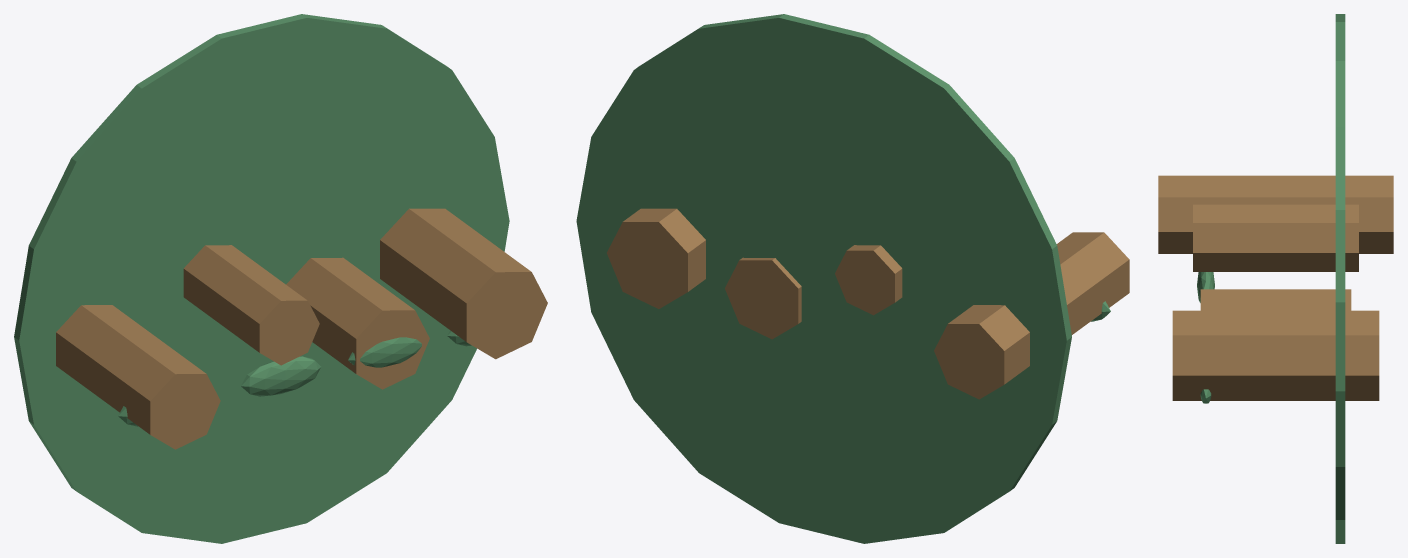
The model's file is 02_local_prop_cluster.glb.
3 views of the same model, side by side, from view 1: azimuth 30°, elevation 25°; view 2: azimuth 150°, elevation 25°; view 3: azimuth 270°, elevation 25° (orthographic). The views are drawn at different scales.
Visible parts, largest first — view 1: scatter_base, root_stump_3, root_stump_0, root_stump_2, root_stump_1, moss_1, moss_2; view 2: scatter_base, root_stump_0, root_stump_3, root_stump_2, root_stump_1; view 3: root_stump_3, root_stump_1, root_stump_0, scatter_base, root_stump_2, moss_1.
Boxes of the visible parts, box(x1,y1,x2,y2) form: scatter_base: box(14, 14, 509, 543); root_stump_3: box(380, 208, 547, 359); root_stump_0: box(56, 305, 220, 449); root_stump_2: box(286, 257, 429, 389); root_stump_1: box(183, 245, 319, 365); moss_1: box(241, 356, 321, 396); moss_2: box(348, 337, 421, 367); scatter_base: box(576, 14, 1071, 543); root_stump_0: box(934, 232, 1129, 399); root_stump_3: box(607, 208, 705, 308); root_stump_2: box(725, 257, 801, 339); root_stump_1: box(835, 245, 902, 315); root_stump_3: box(1172, 310, 1379, 400); root_stump_1: box(1193, 204, 1358, 271); root_stump_0: box(1158, 175, 1393, 253); scatter_base: box(1335, 14, 1345, 543); root_stump_2: box(1200, 289, 1351, 310); moss_1: box(1197, 272, 1214, 302).
Size of the model in its own units: 1.9 by 1.87 by 0.8399.
